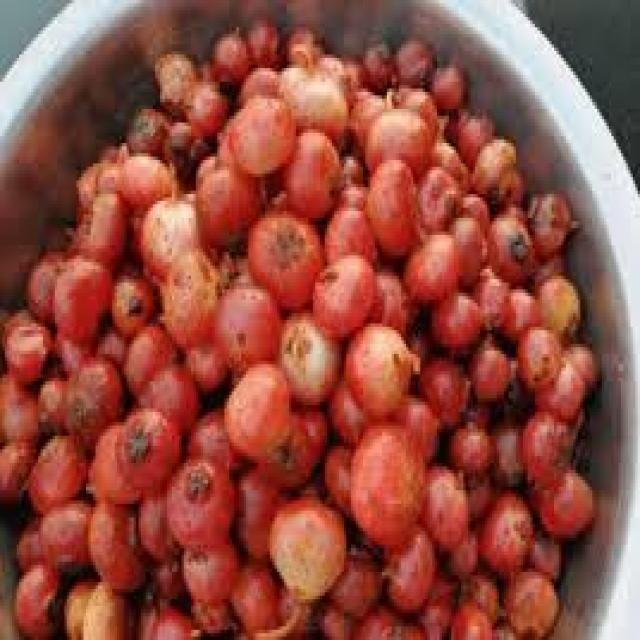biodegradable: (346, 412, 425, 545), (263, 487, 344, 592), (160, 242, 234, 354), (244, 201, 318, 306), (194, 150, 268, 252), (206, 272, 280, 368), (310, 245, 380, 341), (220, 357, 287, 453), (346, 317, 413, 412), (134, 184, 198, 282), (256, 402, 327, 490), (60, 354, 122, 453), (275, 300, 337, 398), (165, 456, 232, 545), (84, 497, 148, 589), (234, 456, 291, 558), (112, 405, 177, 490), (225, 92, 292, 174), (358, 99, 435, 170), (378, 514, 433, 613), (363, 157, 418, 255), (280, 123, 342, 208), (48, 252, 110, 334), (132, 361, 199, 436), (36, 494, 91, 582), (533, 456, 592, 538), (24, 436, 88, 511), (119, 313, 177, 395), (478, 483, 530, 572), (65, 569, 136, 633), (499, 562, 559, 637), (177, 528, 241, 596), (14, 558, 67, 637), (523, 184, 576, 259), (413, 351, 466, 426), (327, 541, 380, 616), (225, 558, 280, 630), (84, 422, 134, 501), (368, 259, 420, 334), (256, 579, 323, 637), (421, 456, 464, 545), (401, 231, 454, 303), (523, 405, 571, 480), (0, 306, 50, 378), (105, 259, 155, 330), (84, 181, 127, 262), (289, 75, 346, 136), (487, 204, 533, 279), (394, 388, 439, 463), (464, 259, 507, 337), (416, 351, 468, 415), (533, 354, 583, 419), (514, 323, 564, 388), (471, 136, 521, 201), (339, 85, 389, 150), (322, 364, 363, 443), (320, 204, 375, 262), (100, 150, 172, 194), (444, 412, 490, 480), (415, 160, 461, 228), (19, 242, 65, 310), (76, 569, 122, 637), (466, 327, 506, 402), (490, 402, 526, 483), (449, 211, 485, 289), (430, 289, 475, 351), (537, 269, 578, 337), (194, 409, 237, 473), (0, 371, 38, 443), (0, 439, 41, 504), (387, 82, 439, 133), (134, 589, 189, 637), (416, 572, 456, 637), (134, 491, 172, 559), (153, 48, 196, 106), (353, 599, 418, 637), (444, 102, 492, 153), (179, 75, 227, 126), (124, 96, 172, 147), (36, 368, 72, 436), (143, 545, 184, 603), (499, 279, 535, 344), (323, 439, 354, 514), (46, 330, 94, 378), (241, 14, 282, 68), (428, 129, 466, 184), (442, 518, 478, 576), (526, 528, 564, 582), (392, 38, 435, 85), (160, 116, 203, 163), (456, 565, 497, 613), (213, 24, 249, 78), (189, 586, 225, 637), (186, 337, 222, 385), (461, 460, 487, 524), (126, 201, 153, 262), (564, 340, 600, 385), (12, 514, 41, 569), (449, 596, 485, 637), (430, 58, 463, 102), (239, 61, 277, 99), (366, 41, 397, 85), (96, 324, 127, 365), (459, 187, 487, 232), (315, 603, 351, 637), (332, 177, 368, 211), (504, 347, 525, 405), (284, 24, 318, 58), (72, 157, 110, 187), (279, 61, 306, 102), (335, 147, 366, 181), (406, 310, 430, 351), (64, 201, 86, 245), (339, 54, 363, 92), (317, 48, 344, 78), (194, 51, 225, 75), (213, 112, 229, 157), (98, 133, 129, 153), (489, 616, 516, 637), (442, 116, 456, 143)
